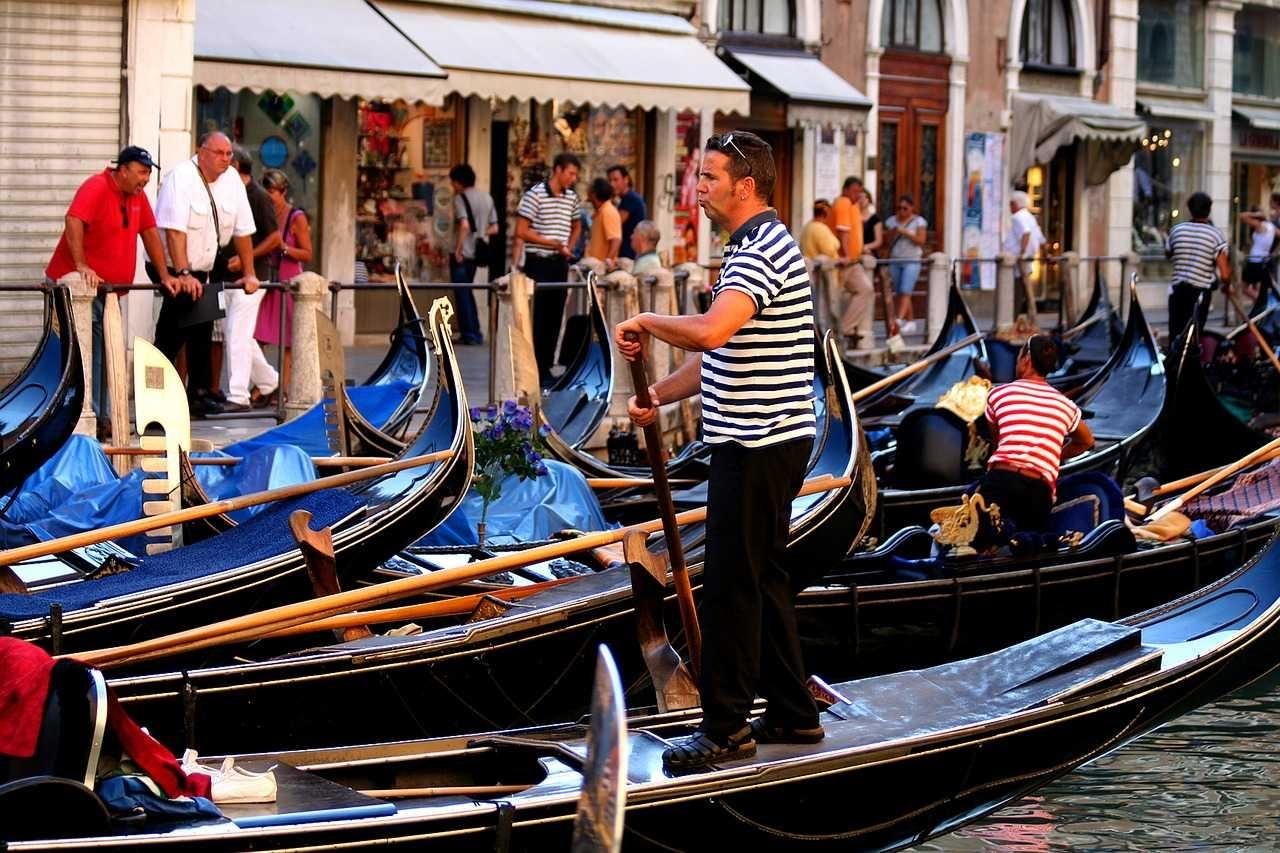kayak: (0, 303, 1280, 782), (15, 589, 1278, 848), (0, 262, 477, 660), (6, 504, 695, 761), (800, 435, 1280, 652), (839, 254, 1172, 530), (1165, 287, 1280, 458), (0, 277, 86, 487)
